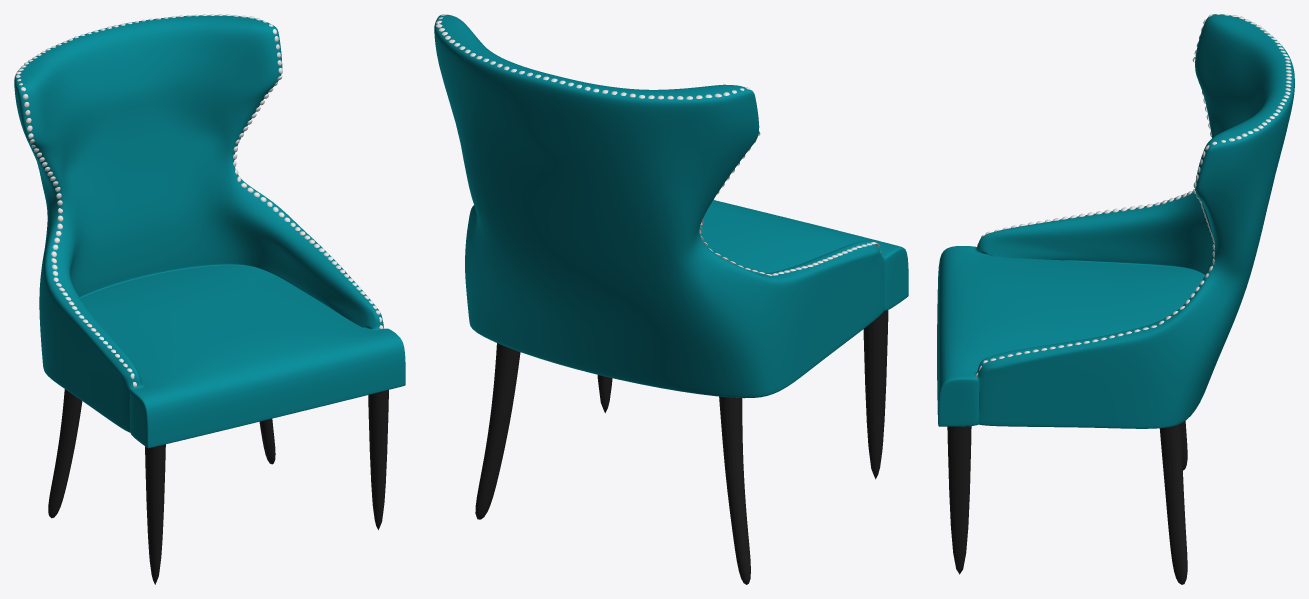
The model's file is velvet-chair3.glb.
3 renders of one model, left to right at view 1: azimuth 30°, elevation 25°; view 2: azimuth 150°, elevation 25°; view 3: azimuth 270°, elevation 25°, orthographic. The views are drawn at different scales.
Visible parts, largest first — view 1: furniture_02.001, furniture_02, Sphere; view 2: furniture_02.001, furniture_02, Sphere; view 3: furniture_02.001, furniture_02, Sphere.
Part boxes in pixels (<box>): furniture_02.001: <box>14,15,405,448</box>; furniture_02: <box>48,389,388,584</box>; Sphere: <box>15,14,383,387</box>; furniture_02.001: <box>434,14,908,398</box>; furniture_02: <box>475,310,888,584</box>; Sphere: <box>435,14,881,275</box>; furniture_02.001: <box>937,14,1294,428</box>; furniture_02: <box>947,421,1187,584</box>; Sphere: <box>975,14,1291,376</box>.
Size of the model in its own units: 0.5544 by 0.8747 by 0.6262.
